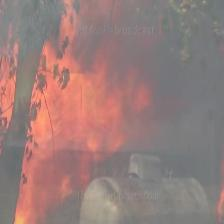fire: (19, 49, 151, 220), (0, 26, 26, 126)
